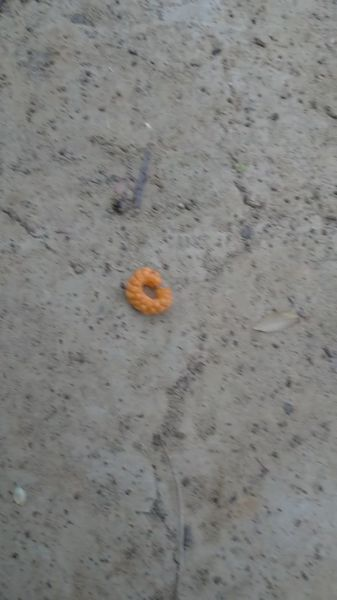eggs: (127, 253, 177, 317)
